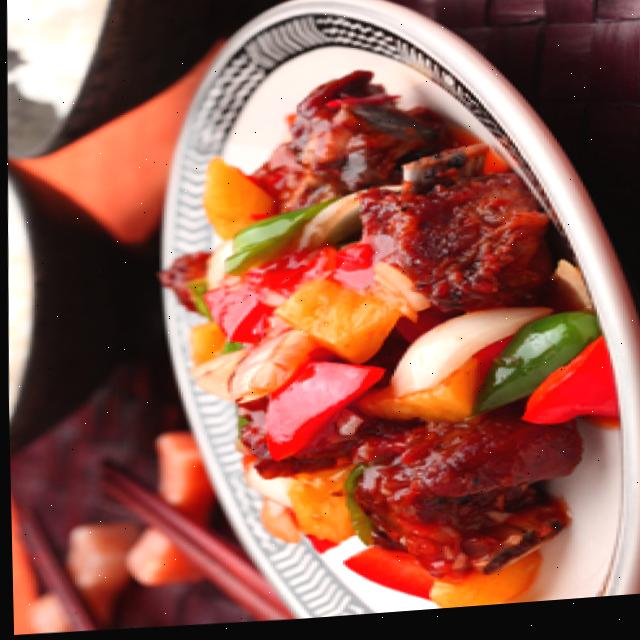猪肉菜式: (150, 53, 626, 631)
米饭主食: (3, 0, 152, 149), (2, 137, 42, 471)
